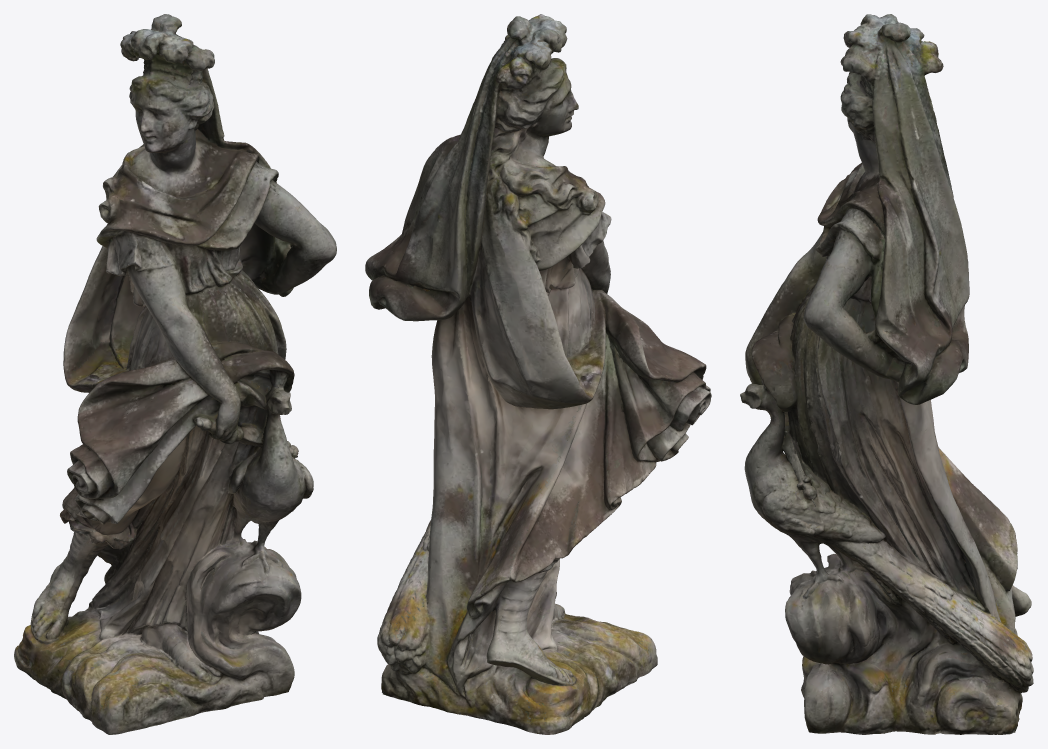
File: hera.glb
3 renders of one model, left to right at view 1: azimuth 30°, elevation 25°; view 2: azimuth 150°, elevation 25°; view 3: azimuth 270°, elevation 25°, orthographic. The views are drawn at different scales.
Parts seen in each view (by area): view 1: Object_2; view 2: Object_2; view 3: Object_2.
Part boxes in pixels (box(x1,y1,x2,y2)): Object_2: box(14, 14, 336, 734); Object_2: box(365, 14, 711, 734); Object_2: box(740, 14, 1033, 734).
Size of the model in its own units: 0.8197 by 1.82 by 0.7235.
Materials: 2 (1 with a texture image).
